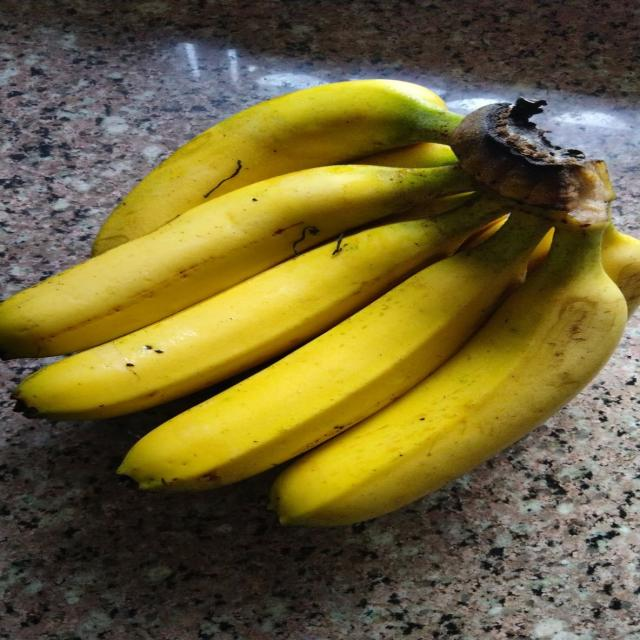unpeal banana: (119, 214, 548, 491), (14, 196, 504, 419), (271, 221, 626, 525), (0, 165, 475, 357), (94, 80, 461, 255), (602, 225, 639, 317), (354, 143, 457, 168)
